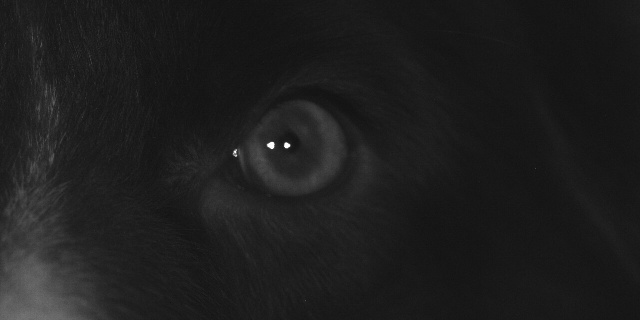iris: (227, 99, 354, 197)
